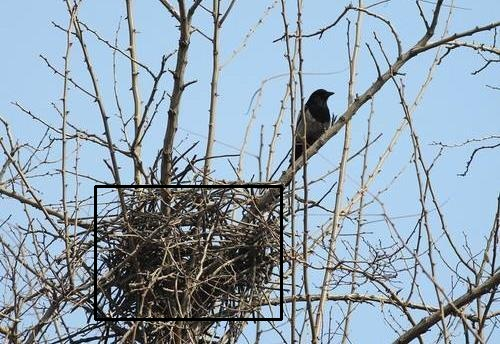bird-nest: (95, 186, 281, 319)
